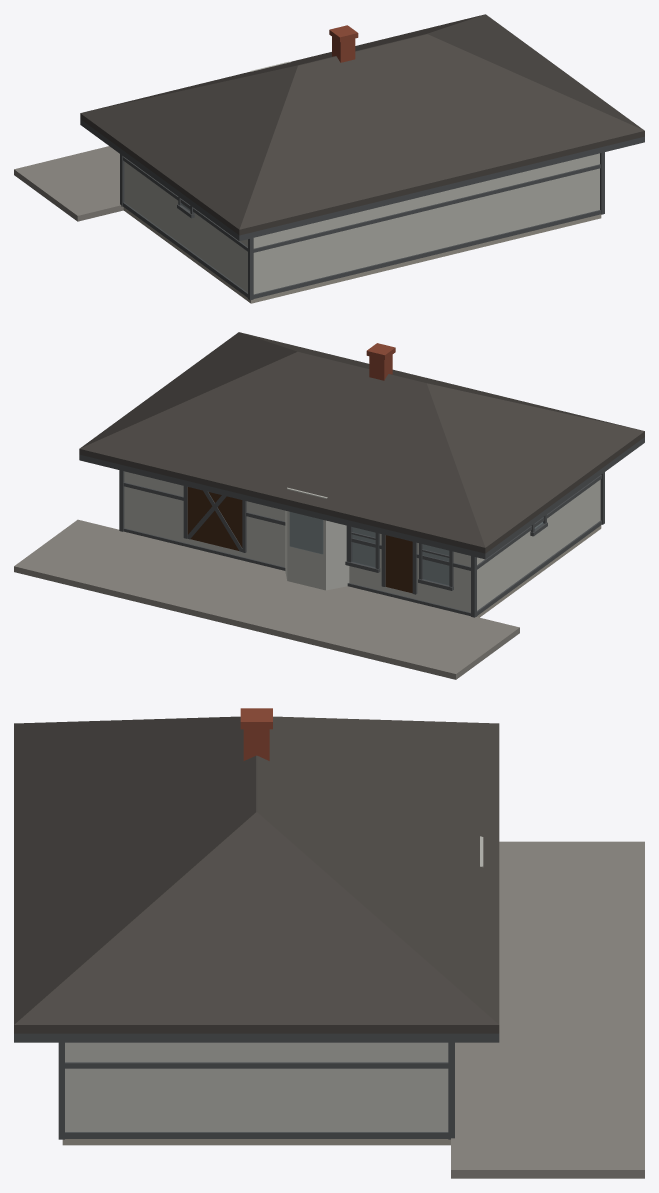
The model's file is Standard_17_Depot.glb.
3 views of the same model, one above another, from view 1: azimuth 30°, elevation 25°; view 2: azimuth 150°, elevation 25°; view 3: azimuth 270°, elevation 25° (orthographic). The views are drawn at different scales.
Visible parts, largest first — view 1: roof, walls, trim, platform, foundation, chimney; view 2: roof, platform, walls, trim, doors, glass, sash, chimney, foundation; view 3: roof, platform, walls, trim, foundation, chimney.
Part boxes in pixels (left/top/right/bottom): roof: left=80, top=14, right=644, bottom=235; walls: left=124, top=61, right=599, bottom=294; trim: left=80, top=119, right=644, bottom=300; platform: left=14, top=146, right=123, bottom=221; foundation: left=123, top=207, right=601, bottom=303; chimney: left=329, top=25, right=358, bottom=62; roof: left=79, top=332, right=644, bottom=553; platform: left=14, top=519, right=519, bottom=679; walls: left=124, top=471, right=600, bottom=612; trim: left=79, top=437, right=644, bottom=617; doors: left=187, top=487, right=412, bottom=593; glass: left=290, top=512, right=543, bottom=584; sash: left=345, top=514, right=547, bottom=590; chimney: left=366, top=343, right=395, bottom=380; foundation: left=477, top=525, right=601, bottom=617; roof: left=14, top=716, right=499, bottom=1033; platform: left=451, top=841, right=644, bottom=1178; walls: left=65, top=836, right=483, bottom=1131; trim: left=14, top=1033, right=499, bottom=1139; foundation: left=62, top=1139, right=450, bottom=1145; chimney: left=240, top=708, right=272, bottom=760.
Size of the model in its own units: 0.5045 by 0.205 by 0.4099.
